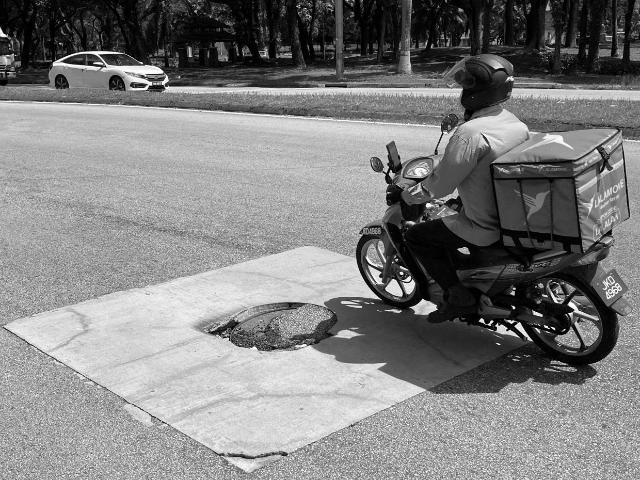Pothole: (202, 299, 338, 351)
